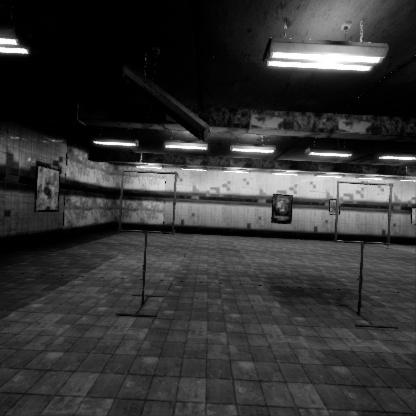gate: (118, 180, 182, 246), (335, 170, 398, 235)
